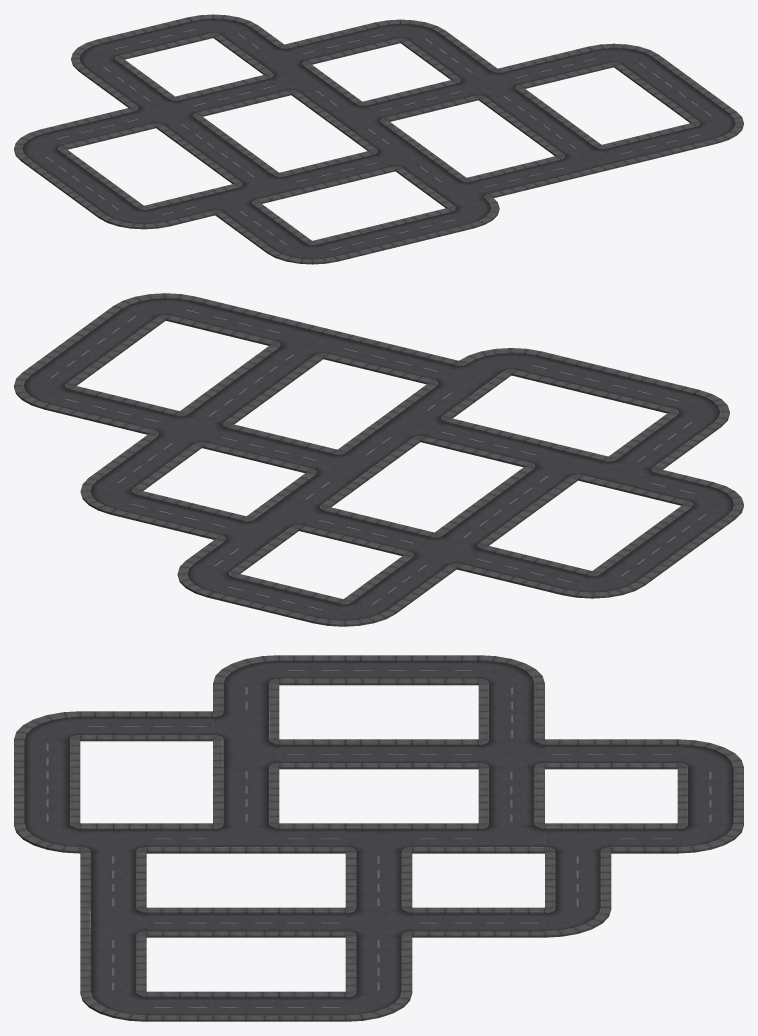
The model's file is street - group.FBX.
3 renders of one model, top to bottom at view 1: azimuth 30°, elevation 25°; view 2: azimuth 150°, elevation 25°; view 3: azimuth 270°, elevation 25°, orthographic. The views are drawn at different scales.
Visible parts, largest first — view 1: street-1 (×13), street-032, street-024, street-014, street-015, street-028, street-021, street-022, street-044, street-043, street-050, street-020 (+39 smaller); view 2: street-1 (×13), street-038, street-049, street-014, street-015, street-022, street-032, street-021, street-044, street-057, street-024, street-028 (+39 smaller); view 3: street-1 (×13), street-009, street-010, street-030, street-046, street-036, street-035, street-006, street-018, street-008, street-027, street-047 (+39 smaller).
Part boxes in pixels (x1,y1,x2,y2): street-1 (×13): [40, 58, 414, 233]; street-032: [330, 22, 400, 53]; street-024: [220, 74, 291, 105]; street-014: [97, 28, 168, 59]; street-015: [142, 17, 213, 48]; street-028: [285, 33, 355, 64]; street-021: [358, 219, 428, 250]; street-022: [403, 208, 473, 239]; street-044: [543, 46, 613, 78]; street-043: [498, 57, 568, 88]; street-050: [602, 134, 672, 165]; street-020: [313, 230, 383, 261]; street-1 (×13): [338, 418, 713, 613]; street-038: [202, 424, 284, 460]; street-049: [165, 296, 248, 333]; street-014: [260, 586, 342, 623]; street-015: [208, 573, 290, 610]; street-022: [511, 351, 593, 388]; street-032: [111, 490, 193, 527]; street-021: [564, 364, 646, 400]; street-044: [44, 385, 126, 422]; street-057: [323, 335, 405, 371]; street-024: [299, 507, 381, 543]; street-028: [163, 503, 245, 539]; street-1 (×13): [146, 683, 677, 853]; street-009: [345, 655, 412, 685]; street-010: [279, 655, 345, 685]; street-030: [611, 823, 677, 853]; street-046: [279, 991, 345, 1021]; street-036: [279, 907, 345, 937]; street-035: [412, 907, 478, 937]; street-006: [146, 823, 212, 853]; street-018: [80, 711, 146, 741]; street-008: [412, 655, 478, 685]; street-027: [412, 823, 478, 853]; street-047: [213, 991, 279, 1021].
Size of the model in its own units: 45416 by 121 by 38429.
